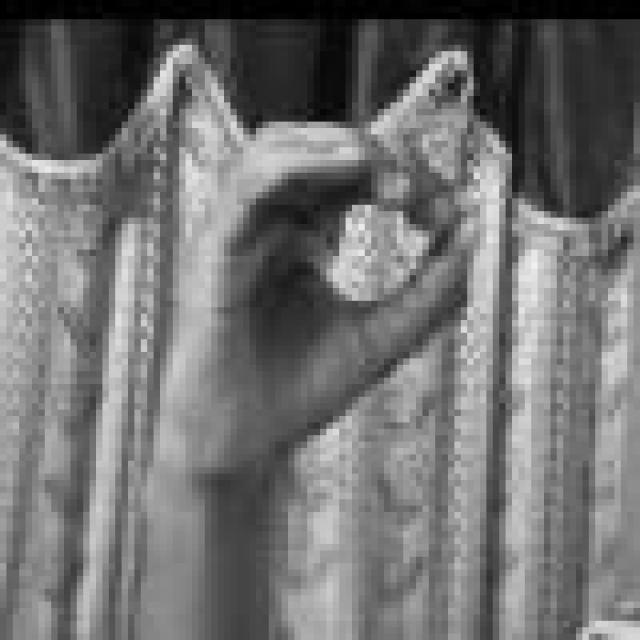O: (166, 118, 468, 496)
